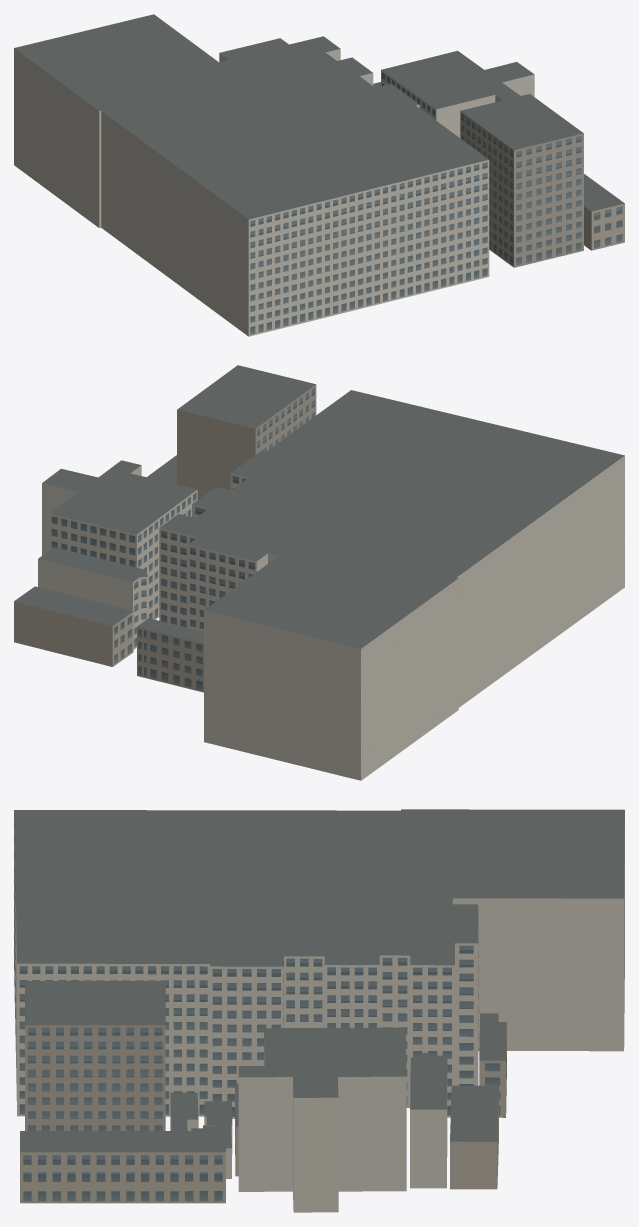
3 renders of one model, top to bottom at view 1: azimuth 30°, elevation 25°; view 2: azimuth 150°, elevation 25°; view 3: azimuth 270°, elevation 25°, orthographic. The views are drawn at different scales.
Visible parts, largest first — view 1: cell-e002-n000_base_roof, cell-e002-n000_base_plaster, cell-e002-n000_base_glass, cell-e002-n000_base_tile-wall, cell-e002-n000_base_stone; view 2: cell-e002-n000_base_roof, cell-e002-n000_base_plaster, cell-e002-n000_base_glass, cell-e002-n000_base_stone, cell-e002-n000_base_tile-wall; view 3: cell-e002-n000_base_roof, cell-e002-n000_base_plaster, cell-e002-n000_base_glass, cell-e002-n000_base_stone, cell-e002-n000_base_tile-wall.
Boxes of the visible parts, <box> form: cell-e002-n000_base_roof: <box>14,14,624,219</box>; cell-e002-n000_base_plaster: <box>14,48,534,336</box>; cell-e002-n000_base_glass: <box>250,72,622,334</box>; cell-e002-n000_base_tile-wall: <box>460,111,583,267</box>; cell-e002-n000_base_stone: <box>584,203,624,250</box>; cell-e002-n000_base_roof: <box>14,365,624,648</box>; cell-e002-n000_base_plaster: <box>38,456,624,780</box>; cell-e002-n000_base_glass: <box>51,388,314,690</box>; cell-e002-n000_base_stone: <box>14,601,203,692</box>; cell-e002-n000_base_tile-wall: <box>177,385,316,499</box>; cell-e002-n000_base_roof: <box>14,809,624,1152</box>; cell-e002-n000_base_plaster: <box>14,818,624,1212</box>; cell-e002-n000_base_glass: <box>14,821,506,1201</box>; cell-e002-n000_base_stone: <box>20,1022,506,1203</box>; cell-e002-n000_base_tile-wall: <box>25,1018,480,1130</box>.
Size of the model in its own units: 118 by 33.61 by 122.
5 materials, 4 textured.
